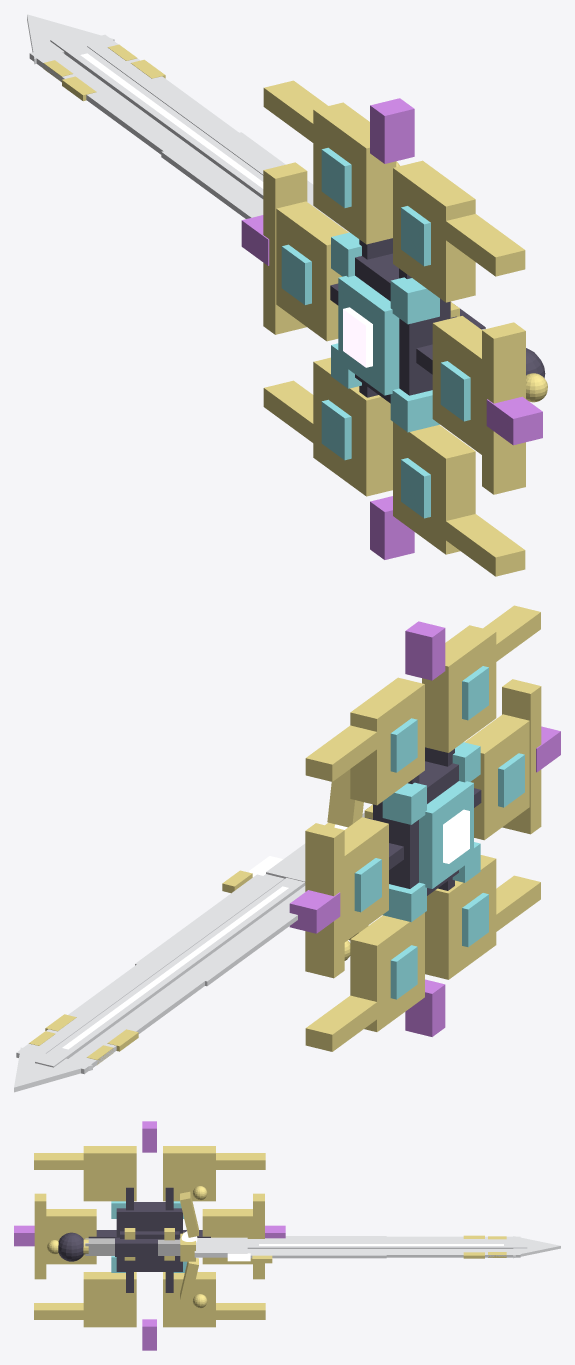
The model's file is art_aegis_core.fbx.
The picture shows the model from 3 angles, top to bottom: view 1: azimuth 30°, elevation 25°; view 2: azimuth 150°, elevation 25°; view 3: azimuth 270°, elevation 25°; orthographic projection. The views are drawn at different scales.
Parts seen in each view (by area): view 1: OrbitPlate3, OrbitPlate5, OrbitPlate6, OrbitPlate4, RimBottom, OrbitPlate1, OrbitPlate2, RiftPowerCore, BladeFuller, RimTop, ContainmentSphere, RimBL (+24 smaller); view 2: OrbitPlate5, OrbitPlate4, OrbitPlate3, OrbitPlate6, RimTop, OrbitPlate2, BladeFuller, OrbitPlate1, RiftPowerCore, EdgeFwd1, RimBottom, ContainmentSphere (+26 smaller); view 3: OrbitPlate5, OrbitPlate6, ContainmentSphere, OrbitPlate3, OrbitPlate4, OrbitPlate2, OrbitPlate1, BladeFuller, EdgeFwd1, RimBR, RimBL, RimBottom (+19 smaller).
Part boxes in pixels (bbox=[...]): OrbitPlate3: bbox=[313, 102, 396, 244]; OrbitPlate5: bbox=[393, 160, 475, 302]; OrbitPlate6: bbox=[393, 422, 475, 554]; OrbitPlate4: bbox=[313, 357, 392, 496]; RimBottom: bbox=[482, 322, 525, 494]; OrbitPlate1: bbox=[276, 201, 348, 341]; OrbitPlate2: bbox=[432, 316, 481, 454]; RiftPowerCore: bbox=[338, 275, 399, 395]; BladeFuller: bbox=[50, 35, 263, 198]; RimTop: bbox=[263, 162, 307, 334]; ContainmentSphere: bbox=[355, 253, 450, 403]; RimBL: bbox=[403, 190, 525, 276]; OrbitPlate5: bbox=[422, 625, 496, 752]; OrbitPlate4: bbox=[350, 912, 424, 1031]; OrbitPlate3: bbox=[350, 677, 424, 805]; OrbitPlate6: bbox=[425, 855, 496, 979]; RimTop: bbox=[305, 823, 344, 978]; OrbitPlate2: bbox=[465, 714, 529, 840]; BladeFuller: bbox=[35, 877, 305, 1067]; OrbitPlate1: bbox=[344, 817, 388, 942]; RiftPowerCore: bbox=[419, 781, 473, 888]; EdgeFwd1: bbox=[135, 874, 284, 969]; RimBottom: bbox=[502, 679, 541, 834]; ContainmentSphere: bbox=[373, 761, 458, 895]; OrbitPlate5: bbox=[83, 1146, 136, 1201]; OrbitPlate6: bbox=[83, 1272, 136, 1327]; ContainmentSphere: bbox=[116, 1202, 182, 1271]; OrbitPlate3: bbox=[163, 1146, 215, 1201]; OrbitPlate4: bbox=[163, 1272, 215, 1327]; OrbitPlate2: bbox=[46, 1209, 96, 1264]; OrbitPlate1: bbox=[202, 1209, 252, 1264]; BladeFuller: bbox=[247, 1242, 527, 1248]; EdgeFwd1: bbox=[247, 1249, 386, 1258]; RimBR: bbox=[34, 1303, 126, 1319]; RimBL: bbox=[34, 1153, 126, 1169]; RimBottom: bbox=[34, 1193, 46, 1279].
Bounding box in the file's own units: 1.23 × 3.7 × 8.26.
